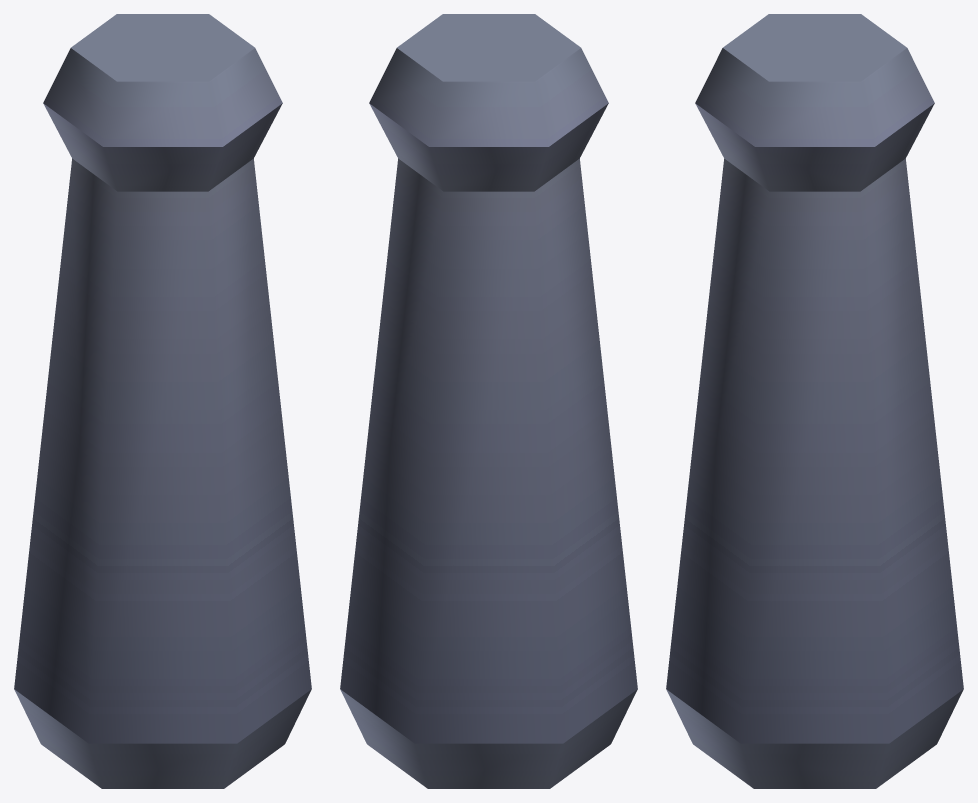
The model's file is mortar_pestle.glb.
The picture shows the model from 3 angles, left to right: view 1: azimuth 30°, elevation 25°; view 2: azimuth 150°, elevation 25°; view 3: azimuth 270°, elevation 25°; orthographic projection.
Visible parts, largest first — view 1: mortar-pestle; view 2: mortar-pestle; view 3: mortar-pestle.
Boxes of the visible parts, x1=… form: mortar-pestle: x1=14, y1=14, x2=311, y2=788; mortar-pestle: x1=340, y1=14, x2=637, y2=788; mortar-pestle: x1=666, y1=14, x2=963, y2=788.
Size of the model in its own units: 0.1142 by 0.3402 by 0.1318.
Materials: 1 (1 with a texture image).
